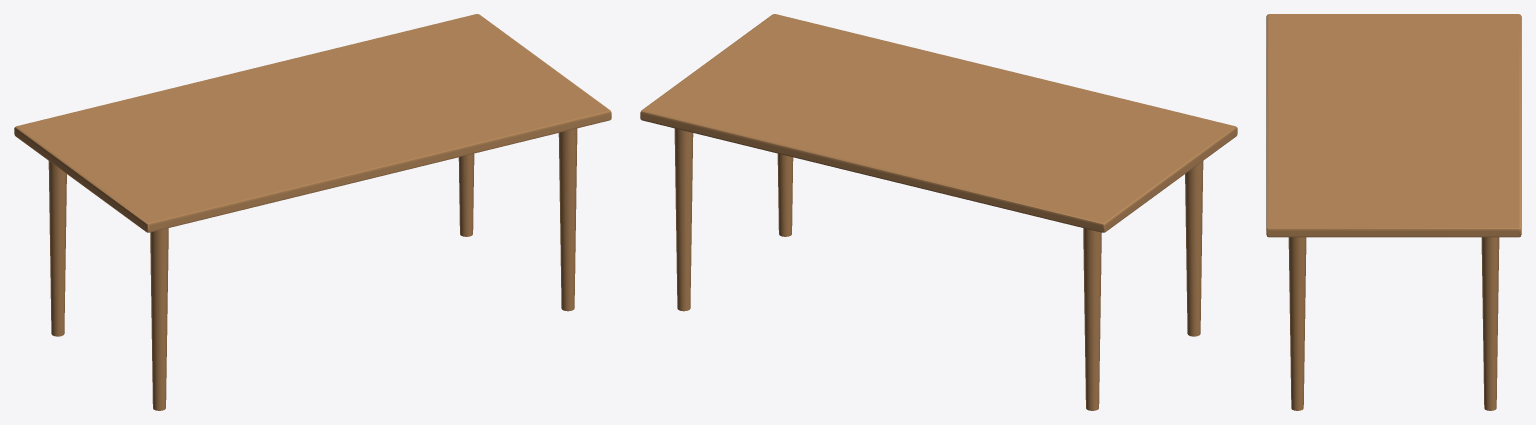
Rendered from table-dining-6.glb.
3 views of the same model, side by side, from view 1: azimuth 30°, elevation 25°; view 2: azimuth 150°, elevation 25°; view 3: azimuth 270°, elevation 25° (orthographic). The views are drawn at different scales.
Parts seen in each view (by area): view 1: table-dining-6; view 2: table-dining-6; view 3: table-dining-6.
Part boxes in pixels (x1,y1,x2,y2): table-dining-6: [14, 14, 611, 410]; table-dining-6: [640, 14, 1237, 410]; table-dining-6: [1266, 14, 1521, 410].
Size of the model in its own units: 1.8 by 0.75 by 0.9.
